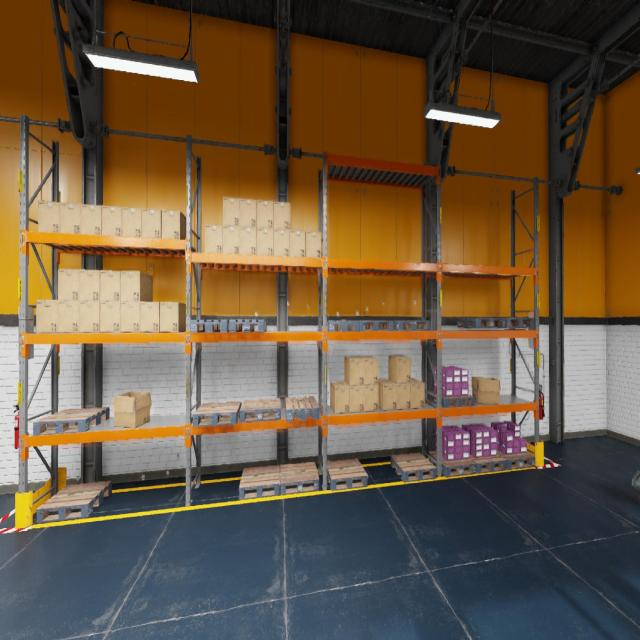box: (112, 390, 152, 428), (120, 270, 152, 301), (472, 376, 501, 404), (160, 302, 186, 332), (161, 209, 186, 239), (388, 378, 411, 409), (36, 300, 58, 332), (38, 200, 60, 232), (58, 300, 79, 332), (58, 268, 79, 300), (81, 203, 102, 235), (60, 202, 81, 234), (388, 354, 411, 383), (79, 301, 100, 332), (79, 269, 100, 300), (330, 381, 350, 413), (140, 301, 160, 332), (120, 301, 140, 332), (100, 301, 120, 332), (102, 205, 122, 236), (100, 270, 120, 300), (122, 206, 142, 236), (378, 379, 397, 410), (344, 356, 364, 385), (142, 208, 161, 238), (358, 356, 378, 384), (205, 224, 222, 253), (223, 196, 239, 226), (274, 200, 290, 229), (257, 199, 273, 228), (240, 198, 256, 227), (223, 225, 239, 254), (257, 228, 273, 255), (274, 229, 290, 256), (240, 227, 256, 254), (290, 229, 305, 257), (350, 385, 364, 413), (411, 378, 424, 408), (306, 231, 321, 257), (364, 385, 378, 411)
pallets: (36, 480, 112, 523), (33, 406, 109, 435), (239, 464, 280, 500), (327, 458, 368, 491), (391, 452, 436, 482), (280, 461, 319, 495), (428, 451, 476, 477), (193, 401, 241, 426), (240, 398, 280, 422), (285, 396, 319, 421), (497, 450, 535, 470), (428, 391, 474, 407), (468, 454, 506, 473), (190, 319, 229, 332), (229, 319, 266, 332), (457, 318, 505, 328), (327, 319, 359, 332), (359, 320, 394, 331), (394, 320, 429, 331), (496, 318, 534, 327)
